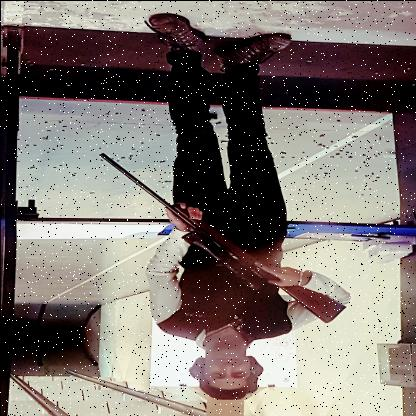rifle: (84, 142, 348, 324)
